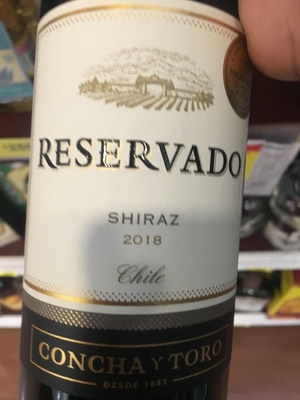reservado shiraz: (25, 3, 248, 400)
